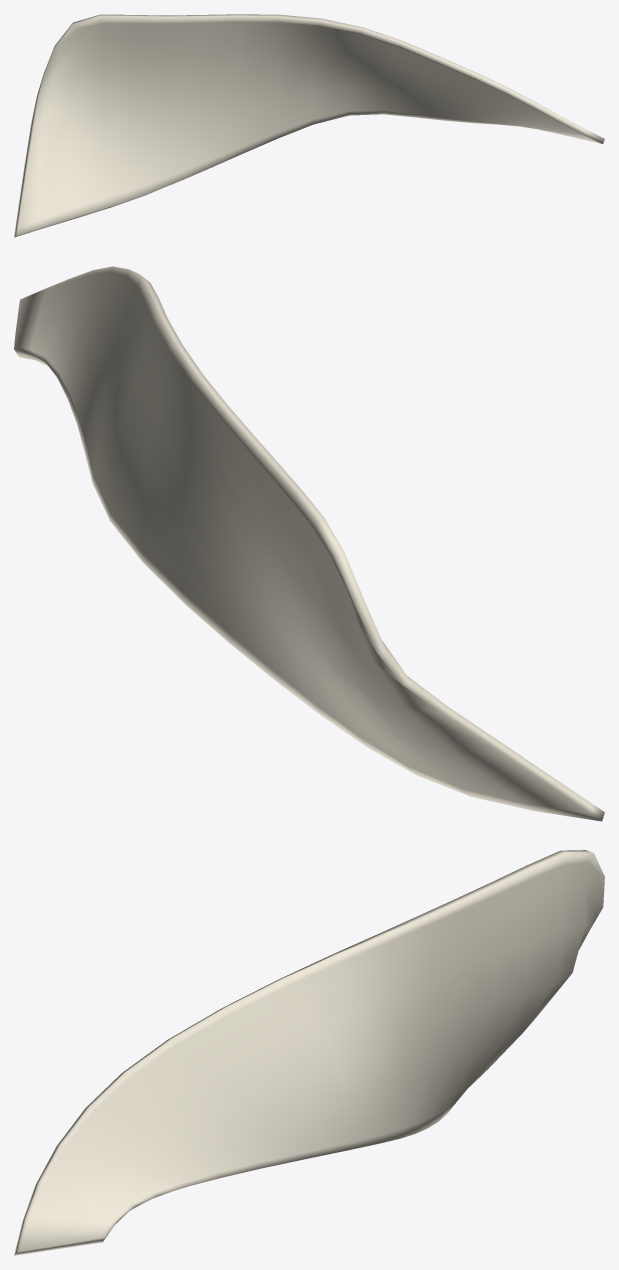
3 views of the same model, one above another, from view 1: azimuth 30°, elevation 25°; view 2: azimuth 150°, elevation 25°; view 3: azimuth 270°, elevation 25° (orthographic). The views are drawn at different scales.
Parts seen in each view (by area): view 1: ZA_649f97bebf579c30; view 2: ZA_649f97bebf579c30; view 3: ZA_649f97bebf579c30.
Part boxes in pixels (x1,y1,x2,y2): ZA_649f97bebf579c30: (14,14,604,237); ZA_649f97bebf579c30: (14,266,604,821); ZA_649f97bebf579c30: (14,850,604,1255).
Size of the model in its own units: 0.0449 by 0.0166 by 0.0309.
